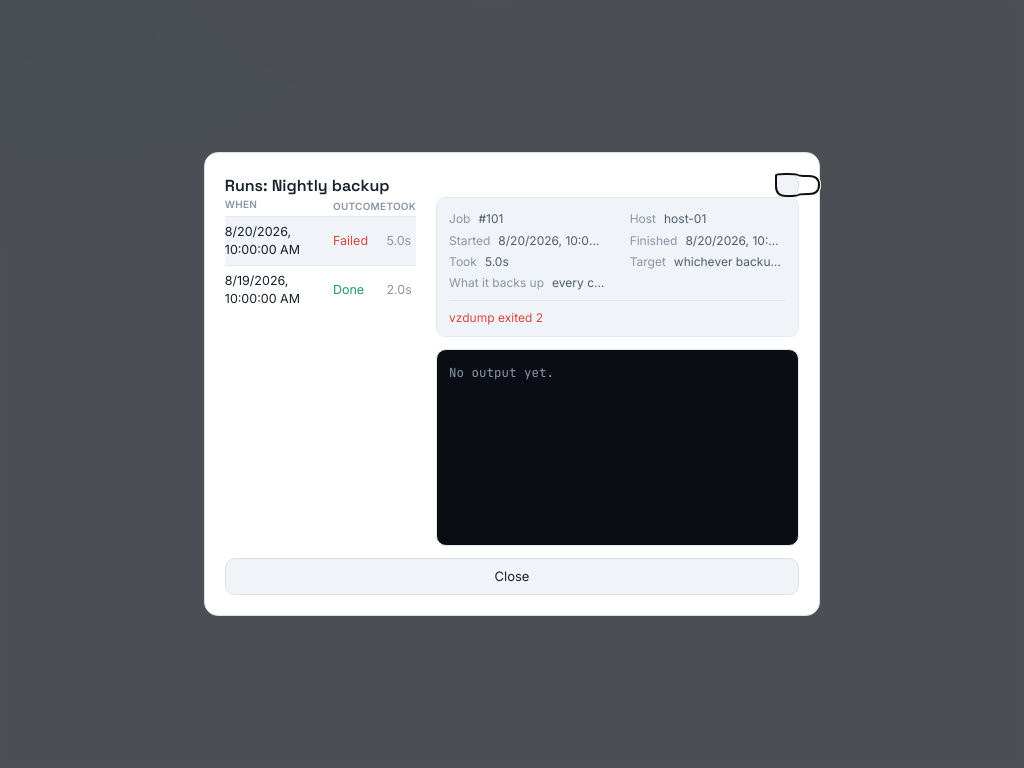
Test case: ScheduleRunsDialog › switches the selection when the other run is clicked
Expected: the text "#101" is shown, x1=478 y1=210 x2=503 y2=228
Click the text "2.0s": (320, 290) x1=225 y1=265 x2=416 y2=314
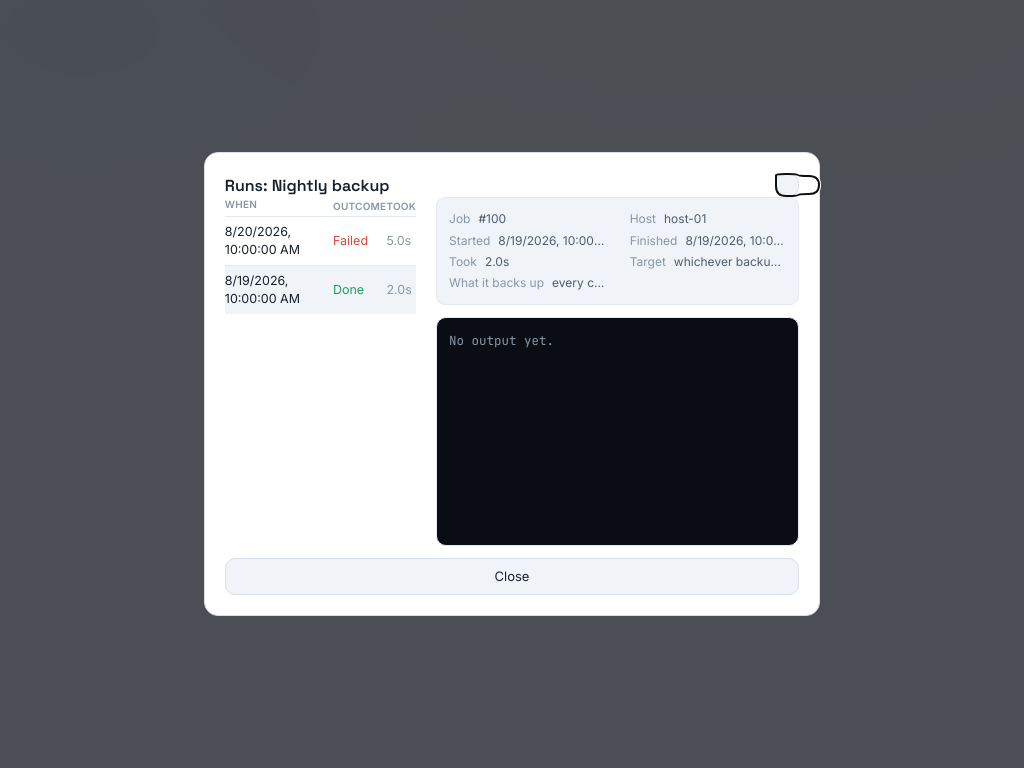
Expected: the text "#100" is shown, x1=478 y1=210 x2=506 y2=228
Expected: the text "#101" is gone
